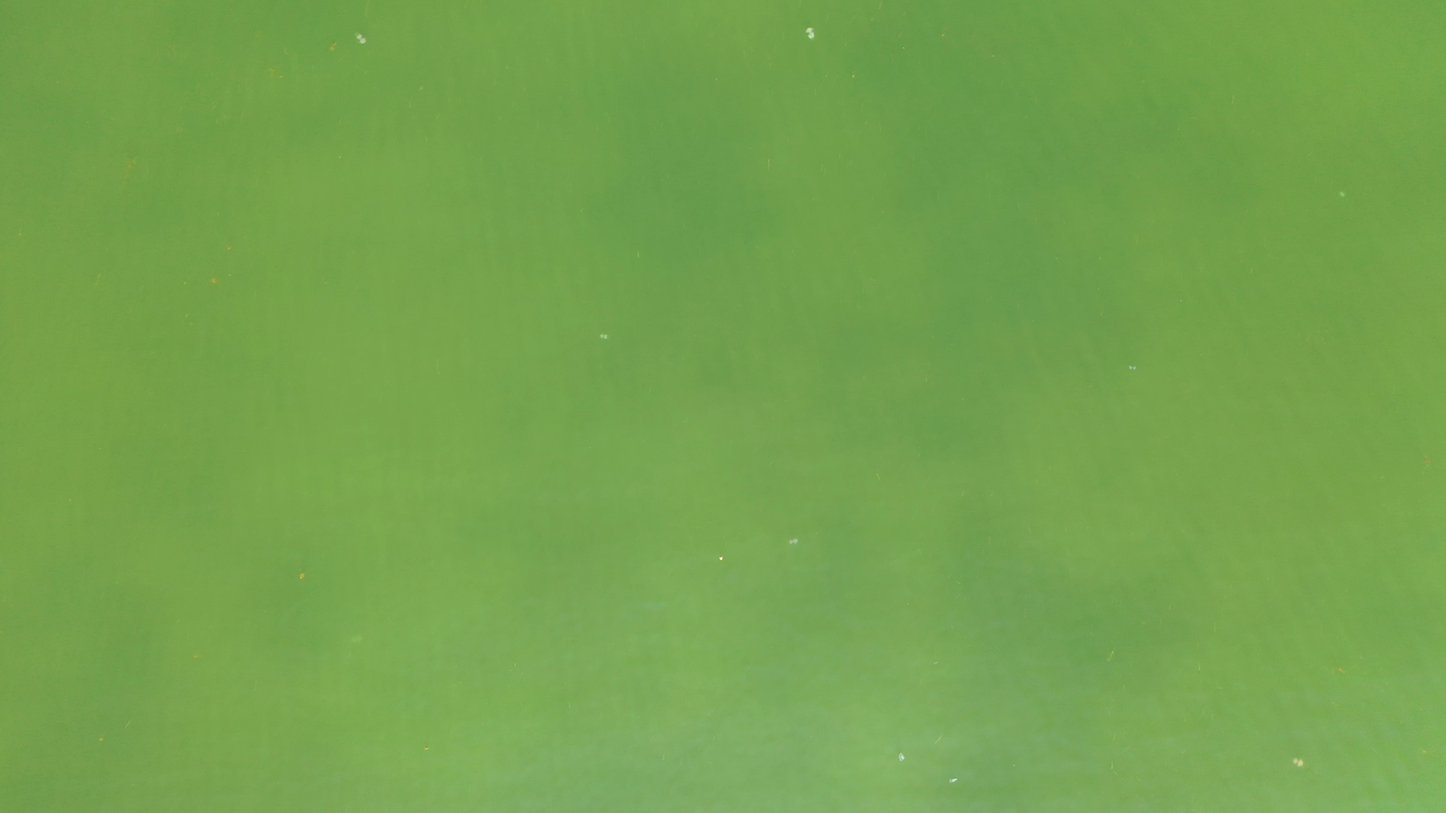meduse: (806, 26, 816, 38), (1292, 757, 1303, 767), (357, 35, 367, 44), (350, 637, 358, 645), (788, 538, 797, 545), (1129, 364, 1137, 371), (601, 333, 607, 341)
